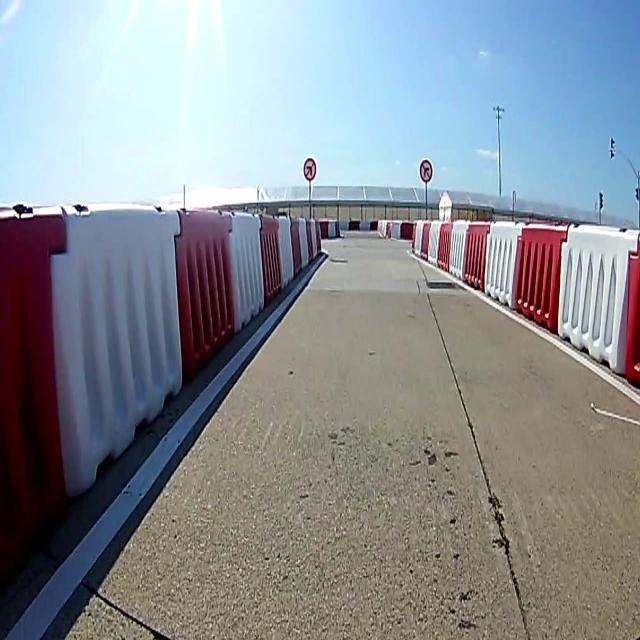sagadonulmez: (417, 157, 434, 183)
soladonulmez: (303, 158, 318, 182)
